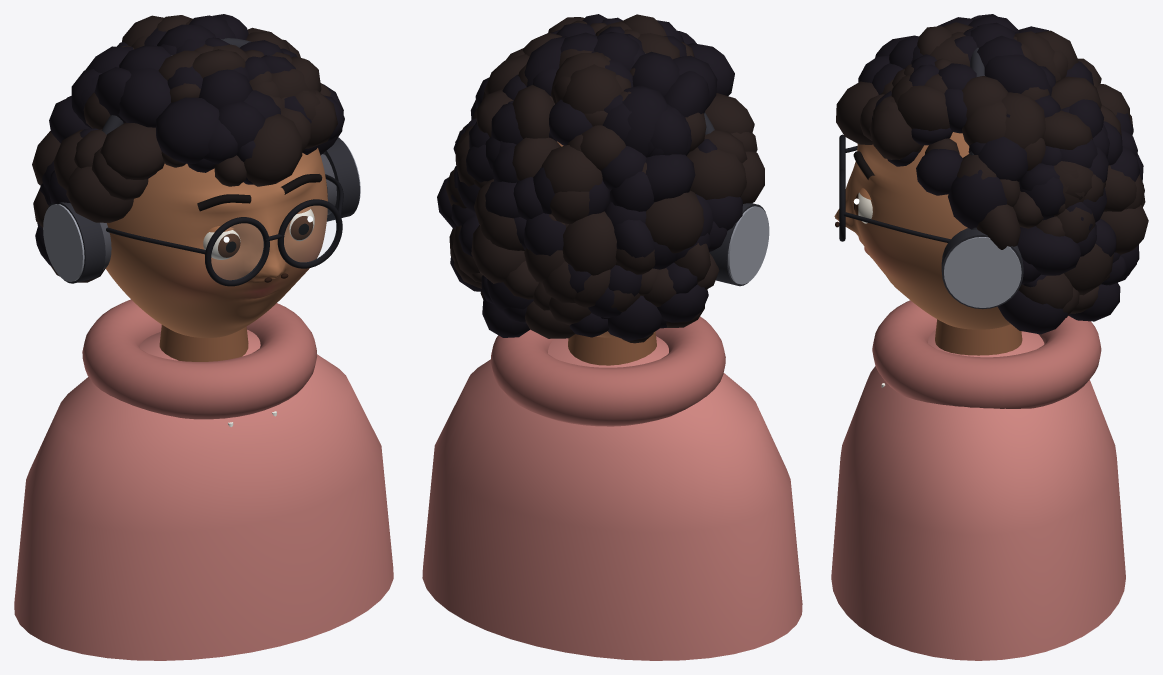
Rendered from avatar.glb.
3 renders of one model, left to right at view 1: azimuth 30°, elevation 25°; view 2: azimuth 150°, elevation 25°; view 3: azimuth 270°, elevation 25°, orthographic. The views are drawn at different scales.
Parts seen in each view (by area): view 1: hoodie, FuyadAvatar, head, neck, eyeL, eyeR; view 2: FuyadAvatar, hoodie, neck; view 3: FuyadAvatar, hoodie, head, neck.
Boxes of the visible parts, x1=… form: hoodie: x1=14, y1=329, x2=393, y2=660; FuyadAvatar: x1=32, y1=14, x2=360, y2=426; head: x1=105, y1=148, x2=327, y2=337; neck: x1=159, y1=325, x2=248, y2=361; eyeL: x1=203, y1=230, x2=240, y2=259; eyeR: x1=289, y1=209, x2=314, y2=241; FuyadAvatar: x1=437, y1=14, x2=769, y2=426; hoodie: x1=422, y1=336, x2=802, y2=660; neck: x1=568, y1=331, x2=656, y2=365; FuyadAvatar: x1=835, y1=14, x2=1148, y2=408; hoodie: x1=831, y1=329, x2=1125, y2=660; head: x1=834, y1=132, x2=1010, y2=329; neck: x1=935, y1=319, x2=1022, y2=355.
Size of the model in its own units: 1.92 by 2.95 by 1.55.
